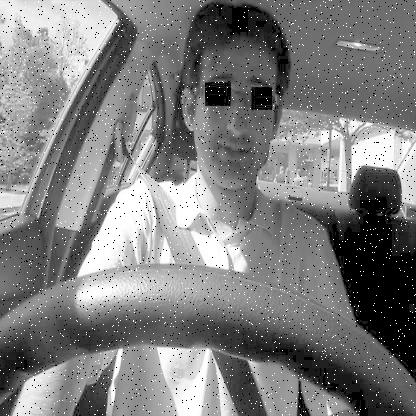seatbelt: (110, 4, 324, 416)
